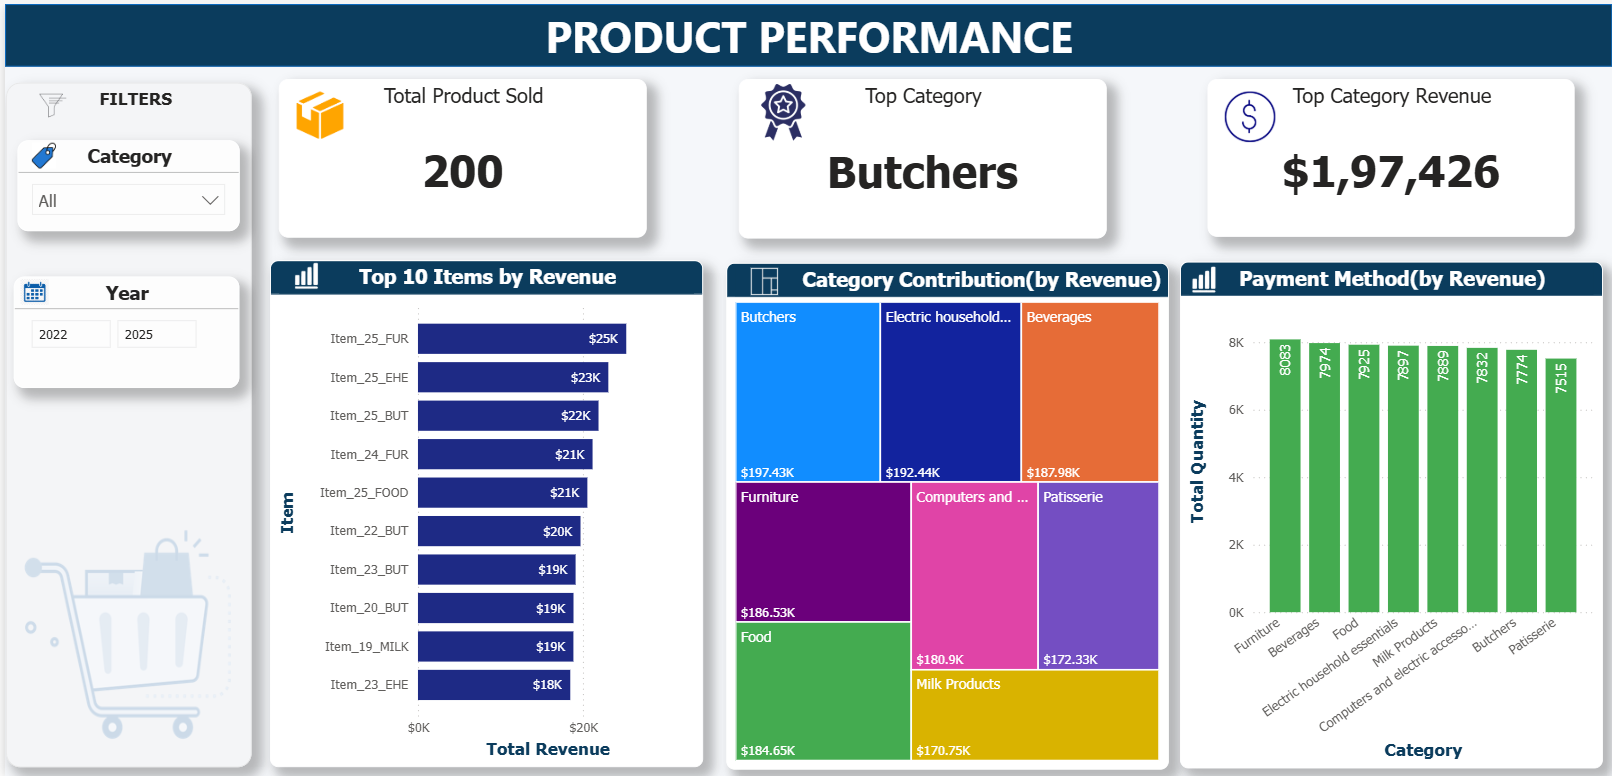

The dashboard page shown, as its layout file describes it:
{"tool":"powerbi","page":{"name":"PRODUCT PERFORMANCE","canvas":[1500,720],"ordinal":1},"visuals":[{"type":"shape","box":[0,0,1500,58.6],"z":0},{"type":"card","title":"Top Category Revenue","fields":{"Values":["sales_cleaned.Top Category Sales"]},"box":[1121.4,70,342.6,147.5],"z":0,"group":"g3"},{"type":"image","box":[1.2,73.8,228.8,638.8],"z":2000},{"type":"textbox","box":[7.5,74,230,42.5],"z":3000},{"type":"slicer","title":"Category","fields":{"Values":["sales_cleaned.Category"]},"box":[11.4,127.6,207.5,85],"z":3000,"group":"g8"},{"type":"image","box":[13.7,70.6,61.2,47.5],"z":4000},{"type":"slicer","title":"Year","fields":{"Values":["sales_cleaned.Transaction Date.Variation.Date Hierarchy.Year"]},"box":[8.6,254.3,210,103.8],"z":6000,"group":"g7"},{"type":"group","id":"g1","title":"Group 1","box":[684.1,70,343.2,148.9],"z":7000},{"type":"group","id":"g2","title":"Group 2","box":[255.1,70,343.4,148],"z":8000},{"type":"group","id":"g3","title":"Group 3","box":[1121.4,70,342.6,147.5],"z":9000},{"type":"image","box":[18.9,130.1,35,23.8],"z":9000,"group":"g8"},{"type":"group","id":"g4","title":"Group 4","box":[672.9,241.4,412.9,472.9],"z":10000},{"type":"group","id":"g5","title":"Group 5","box":[247.1,235.5,404.3,475.9],"z":11000},{"type":"group","id":"g6","title":"Group 6","box":[1095.7,240,394.3,472.9],"z":12000,"group":"g10"},{"type":"image","box":[11.1,256.2,35,23.8],"z":12000,"group":"g7"},{"type":"group","id":"g7","title":"Group 7","box":[8.6,254.3,210,104.3],"z":13000},{"type":"image","box":[1131.4,81.4,58.6,47.1],"z":14000,"group":"g3"},{"type":"treemap","title":"Category Contribution(by Revenue)","fields":{"Group":["sales_cleaned.Category"],"Values":["sales_cleaned.Total Revenue"]},"box":[672.9,241.4,412.9,472.9],"z":15000,"group":"g4"},{"type":"group","id":"g8","title":"Group 10","box":[11.4,127.6,207.5,85],"z":16000},{"type":"barChart","title":"Top 10 Items by Revenue","fields":{"Y":["sales_cleaned.Total Revenue"],"Category":["sales_cleaned.Item"]},"box":[247.1,238.6,404.3,472.9],"z":16000,"group":"g9"},{"type":"group","id":"g9","title":"Group 11","box":[247.1,235.5,404.3,475.9],"z":16001,"group":"g5"},{"type":"card","title":"Total Product Sold","fields":{"Values":["sales_cleaned.Total Products"]},"box":[255.1,70,343.4,148],"z":17000,"group":"g2"},{"type":"columnChart","title":"Payment Method(by Revenue)","fields":{"Category":["sales_cleaned.Category"],"Y":["Sum(sales_cleaned.Quantity)"]},"box":[1095.7,240,394.3,472.9],"z":17000,"group":"g6"},{"type":"card","title":"Top Category","fields":{"Values":["sales_cleaned.Top Category Name"]},"box":[684.3,70,343,148.9],"z":18000,"group":"g1"},{"type":"image","box":[269.2,81.4,48.6,44.3],"z":19000,"group":"g2"},{"type":"image","box":[684.1,74.3,82.9,52.9],"z":20000,"group":"g1"},{"type":"image","box":[687.2,245.7,42.9,25.7],"z":20001,"group":"g4"},{"type":"image","box":[261.2,235.5,40,35.7],"z":20002,"group":"g9"},{"type":"image","box":[1098.6,238.6,40,35.7],"z":20002,"group":"g10"},{"type":"group","id":"g10","title":"Group 8","box":[1095.7,238.6,394.3,474.3],"z":20003}]}

Visuals, with their boxes in screenshot pixels (x1, y1, x2, y2), scaled from the page's 1500x720 canvas onto the 1612x776 screenshot:
shape: select_region(0, 0, 1611, 63)
"Top Category Revenue" card: select_region(1205, 75, 1573, 234)
image: select_region(1, 80, 247, 768)
textbox: select_region(8, 80, 255, 126)
"Category" slicer: select_region(12, 138, 235, 229)
image: select_region(15, 76, 80, 127)
"Year" slicer: select_region(9, 274, 235, 386)
"Group 1" group: select_region(735, 75, 1104, 236)
"Group 2" group: select_region(274, 75, 643, 235)
"Group 3" group: select_region(1205, 75, 1573, 234)
image: select_region(20, 140, 58, 166)
"Group 4" group: select_region(723, 260, 1167, 770)
"Group 5" group: select_region(266, 254, 700, 767)
"Group 6" group: select_region(1178, 259, 1601, 768)
image: select_region(12, 276, 50, 302)
"Group 7" group: select_region(9, 274, 235, 386)
image: select_region(1216, 88, 1279, 138)
"Category Contribution(by Revenue)" treemap: select_region(723, 260, 1167, 770)
"Group 10" group: select_region(12, 138, 235, 229)
"Top 10 Items by Revenue" barChart: select_region(266, 257, 700, 767)
"Group 11" group: select_region(266, 254, 700, 767)
"Total Product Sold" card: select_region(274, 75, 643, 235)
"Payment Method(by Revenue)" columnChart: select_region(1178, 259, 1601, 768)
"Top Category" card: select_region(735, 75, 1104, 236)
image: select_region(289, 88, 342, 135)
image: select_region(735, 80, 824, 137)
image: select_region(739, 265, 785, 293)
image: select_region(281, 254, 324, 292)
image: select_region(1181, 257, 1224, 296)
"Group 8" group: select_region(1178, 257, 1601, 768)
